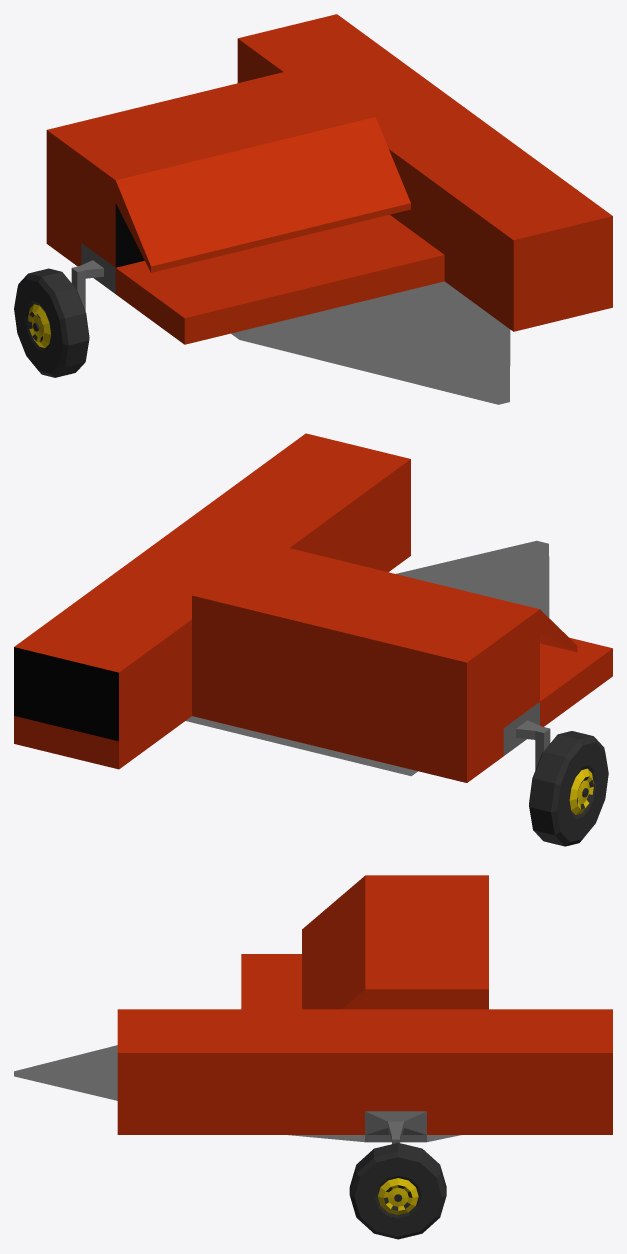
Rendered from M_041. Square Bailer.fbx.
3 renders of one model, top to bottom at view 1: azimuth 30°, elevation 25°; view 2: azimuth 150°, elevation 25°; view 3: azimuth 270°, elevation 25°, orthographic. The views are drawn at different scales.
Parts seen in each view (by area): view 1: Square Bailer, Tractor Tyre.001; view 2: Square Bailer, Tractor Tyre.001; view 3: Square Bailer, Tractor Tyre.
Part boxes in pixels (x1=…): Square Bailer: x1=46, y1=14, x2=612, y2=404; Tractor Tyre.001: x1=14, y1=268, x2=89, y2=377; Square Bailer: x1=14, y1=433, x2=612, y2=782; Tractor Tyre.001: x1=529, y1=731, x2=608, y2=846; Square Bailer: x1=14, y1=875, x2=612, y2=1143; Tractor Tyre: x1=349, y1=1142, x2=446, y2=1239.
Size of the model in its own units: 1010 by 373 by 1163.
